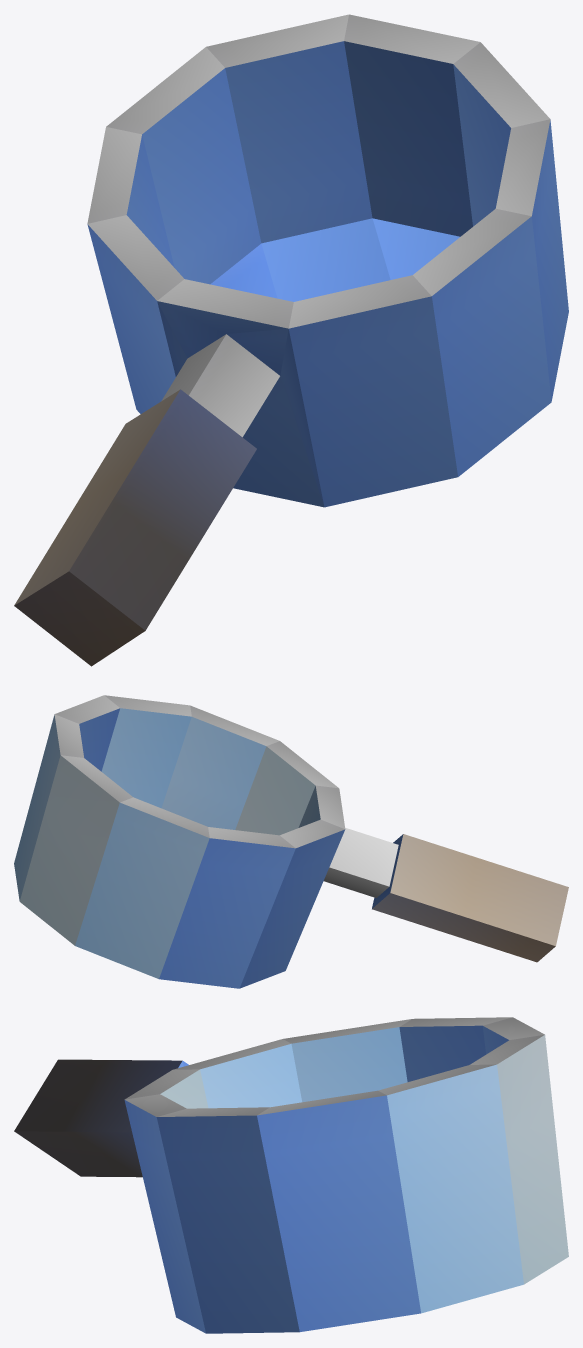
The model's file is pot03.fbx.
3 views of the same model, one above another, from view 1: azimuth 30°, elevation 25°; view 2: azimuth 150°, elevation 25°; view 3: azimuth 270°, elevation 25° (orthographic). The views are drawn at different scales.
Parts seen in each view (by area): view 1: pot03; view 2: pot03; view 3: pot03.
Part boxes in pixels (x1,y1,x2,y2): pot03: (14, 14, 568, 666); pot03: (14, 695, 568, 988); pot03: (14, 1017, 568, 1333).
Bounding box in the file's own units: 171 × 90.72 × 140.
